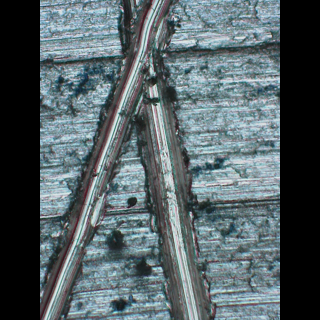d: (40, 0, 222, 318)
